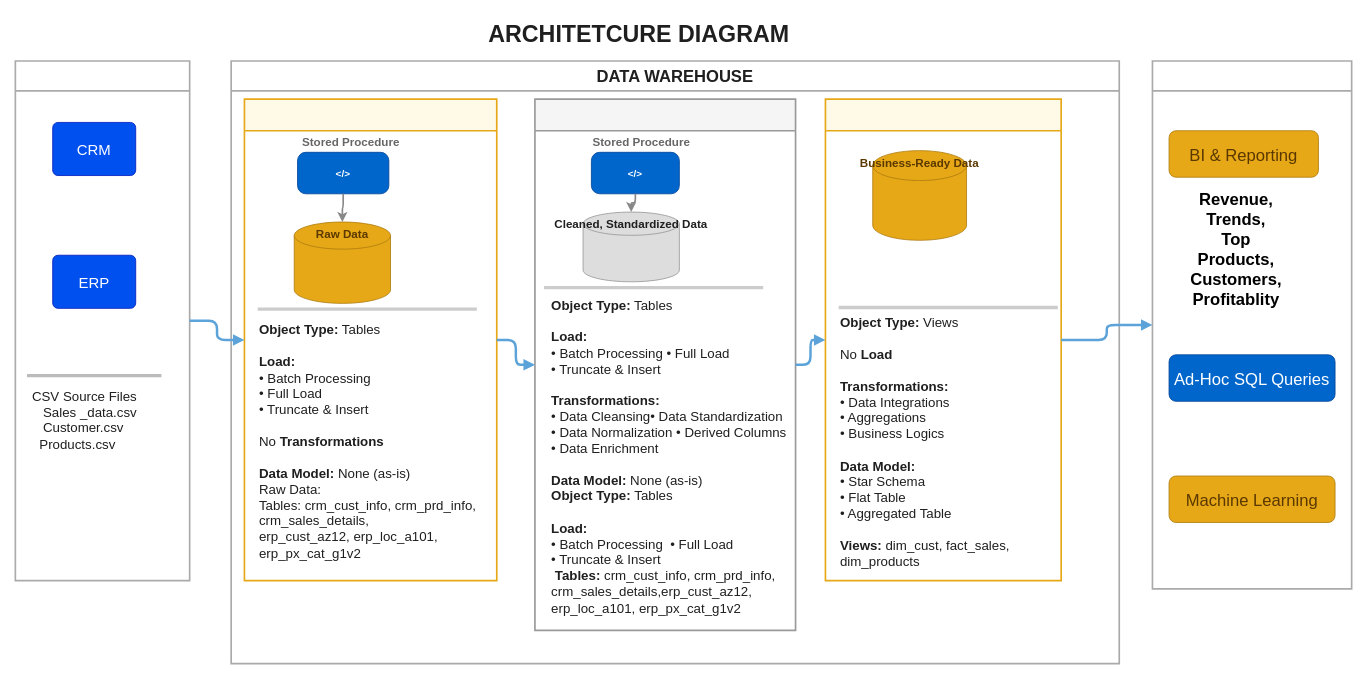
This 1366x678 diagram has some shape labels left out. The box of each missing label's shape, as (x1, y1, x2, y2) in pixels:
Bronze Layer: (243, 98, 497, 581)
Consume: (1151, 60, 1352, 589)
Gold Layer: (824, 98, 1062, 581)
Silver Layer: (534, 98, 796, 631)
Sources: (14, 60, 190, 581)
